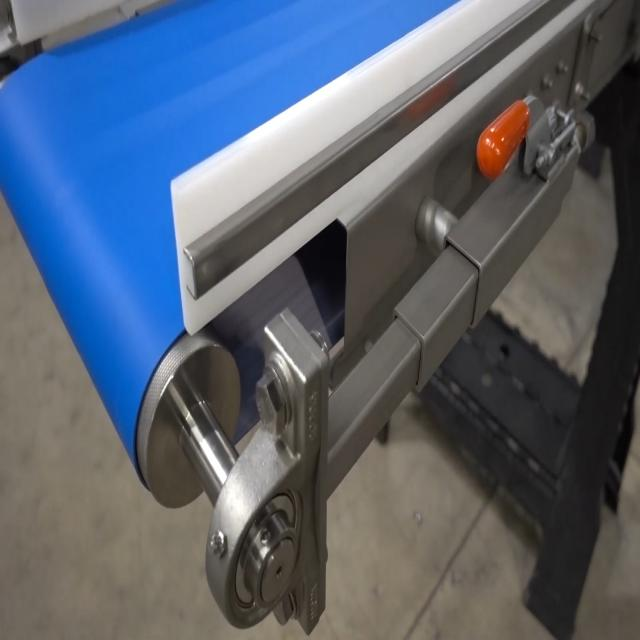Convoyeur: (0, 0, 632, 507)
